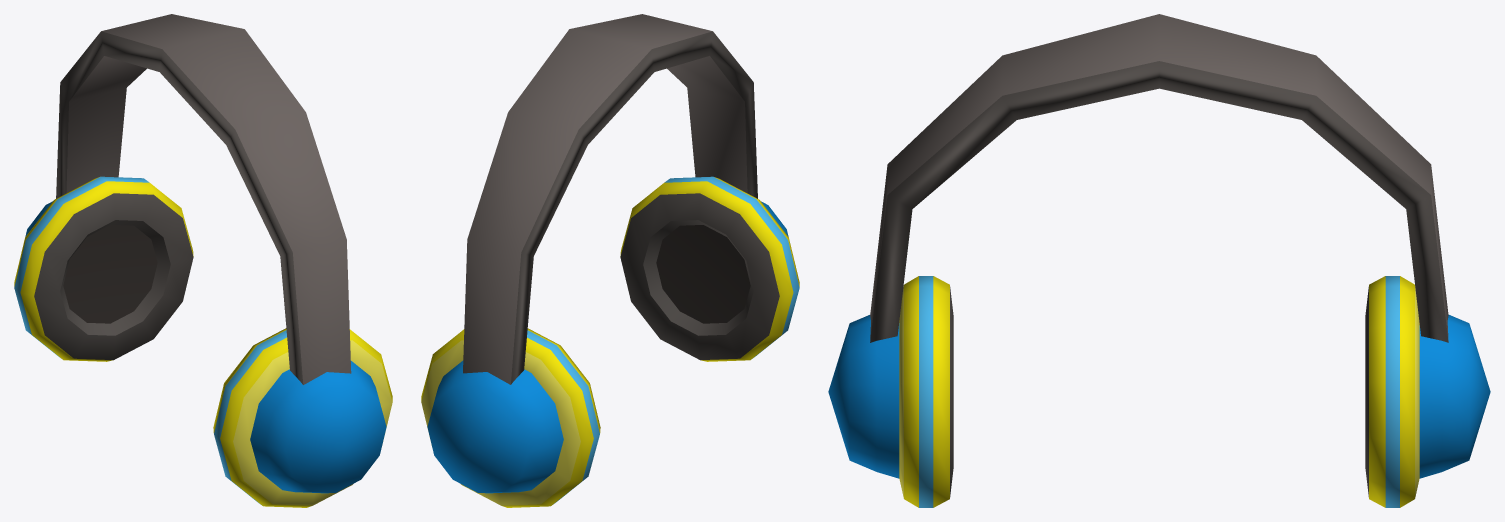
File: headphone.fbx
The picture shows the model from 3 angles, left to right: view 1: azimuth 30°, elevation 25°; view 2: azimuth 150°, elevation 25°; view 3: azimuth 270°, elevation 25°; orthographic projection. The views are drawn at different scales.
Visible parts, largest first — view 1: headphone; view 2: headphone; view 3: headphone.
Part boxes in pixels (bbox=[...]): headphone: bbox=[14, 14, 392, 507]; headphone: bbox=[421, 14, 799, 507]; headphone: bbox=[828, 14, 1490, 507].
Bounding box in the file's own units: 2.17 × 4.72 × 6.15.
1 material, 1 textured.
